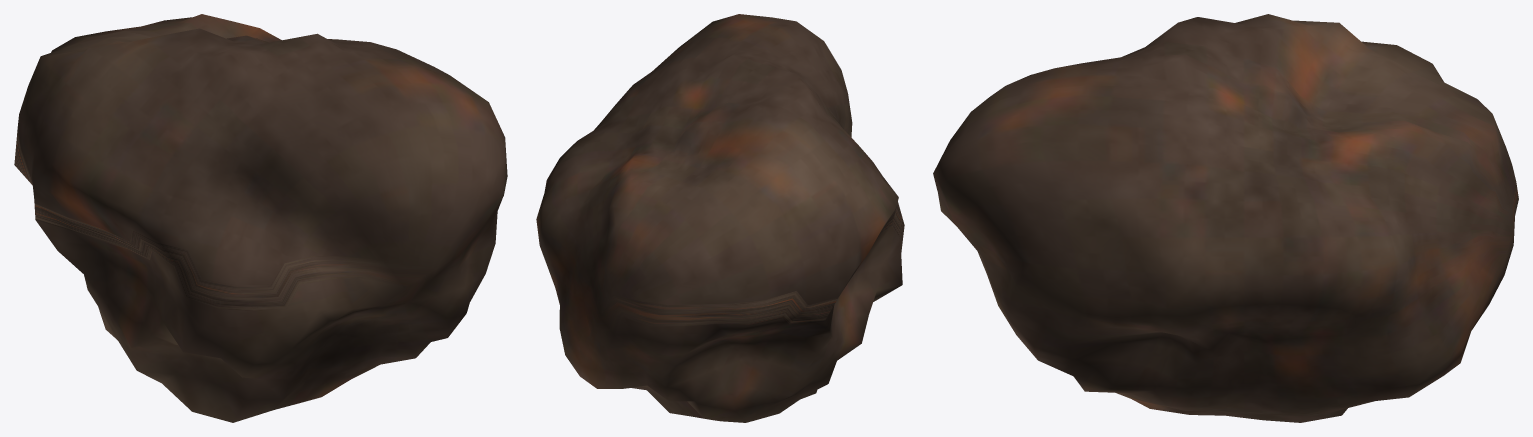
File: asteroide_3.glb
3 renders of one model, left to right at view 1: azimuth 30°, elevation 25°; view 2: azimuth 150°, elevation 25°; view 3: azimuth 270°, elevation 25°, orthographic. The views are drawn at different scales.
Parts seen in each view (by area): view 1: Asteroide_3; view 2: Asteroide_3; view 3: Asteroide_3.
Boxes of the visible parts, x1=… form: Asteroide_3: x1=14, y1=14, x2=507, y2=422; Asteroide_3: x1=536, y1=14, x2=904, y2=422; Asteroide_3: x1=933, y1=14, x2=1518, y2=422.
Size of the model in its own units: 2.01 by 1.93 by 2.74.
1 material, 1 textured.
